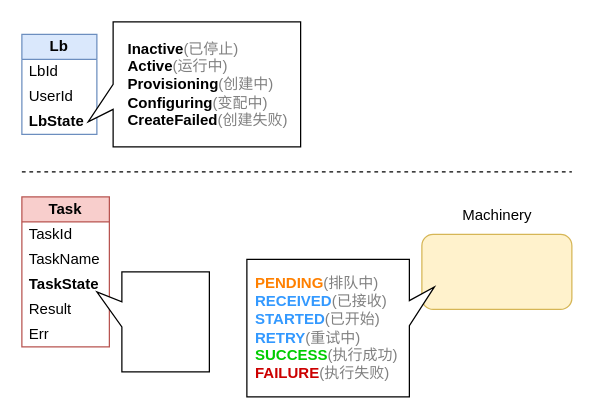
This 595x419 diagram has some shape labels left out. Here are the shapes that lost their labels. From the top down, the box of each, then its label:
(421, 233, 572, 309): Backend
(96, 271, 209, 372): 未执行 执行中 执行成功 执行失败
